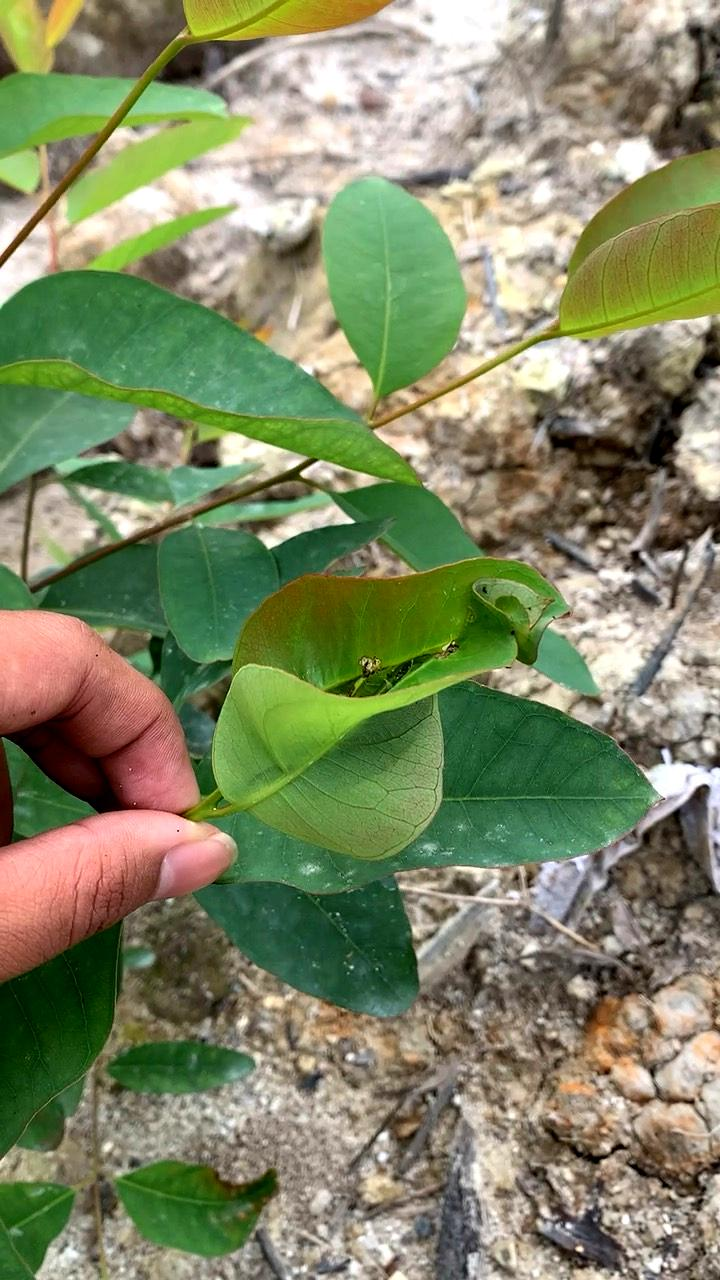Leaf Roller - Leaf: (196, 563, 589, 928)
